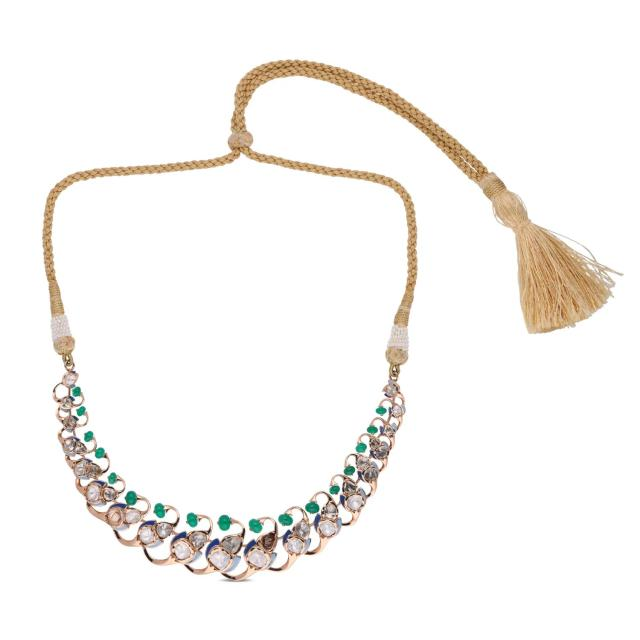missing gem: (260, 534, 275, 550), (109, 509, 121, 524)
